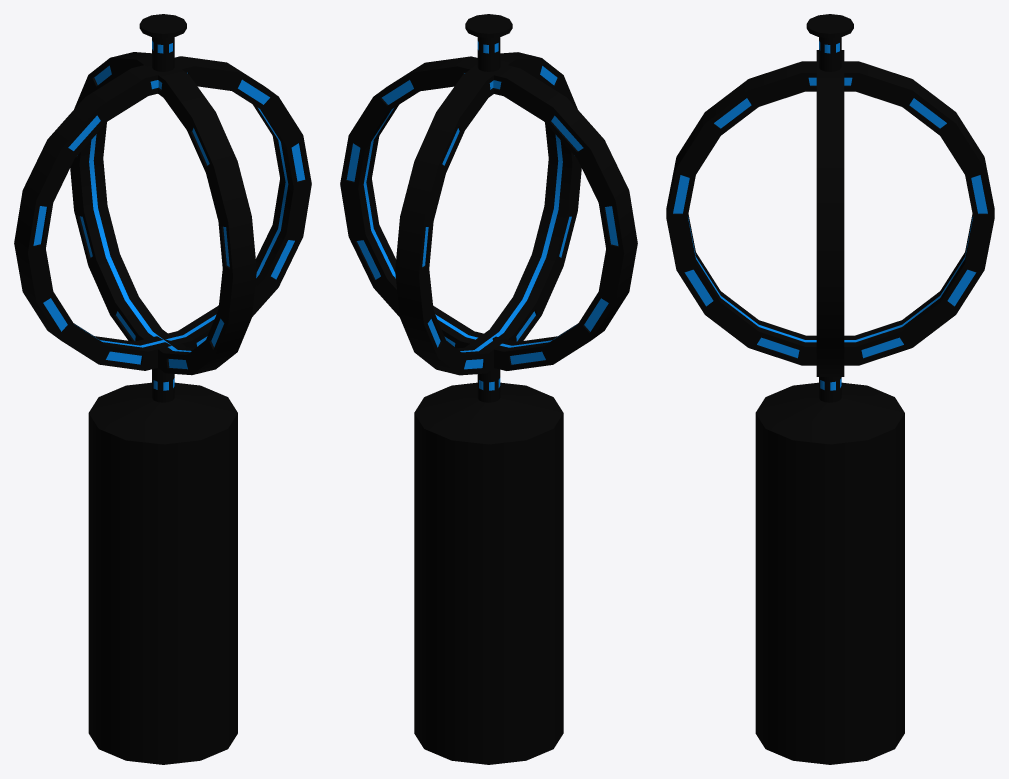
Rendered from Rings pass.FBX.
The picture shows the model from 3 angles, left to right: view 1: azimuth 30°, elevation 25°; view 2: azimuth 150°, elevation 25°; view 3: azimuth 270°, elevation 25°; orthographic projection.
Parts seen in each view (by area): view 1: Cylinder066, Tube003, Cylinder065; view 2: Cylinder066, Cylinder065, Tube003; view 3: Cylinder066, Cylinder065, Tube003.
Part boxes in pixels (box(x1,y1,x2,y2)): Cylinder066: box(88, 368, 237, 764); Tube003: box(14, 56, 311, 370); Cylinder065: box(70, 14, 256, 375); Cylinder066: box(414, 368, 563, 764); Cylinder065: box(395, 14, 581, 375); Tube003: box(340, 56, 637, 370); Cylinder066: box(755, 377, 904, 764); Cylinder065: box(666, 14, 994, 365); Tube003: box(816, 50, 844, 376).
Size of the model in its own units: 315 by 752 by 315.
